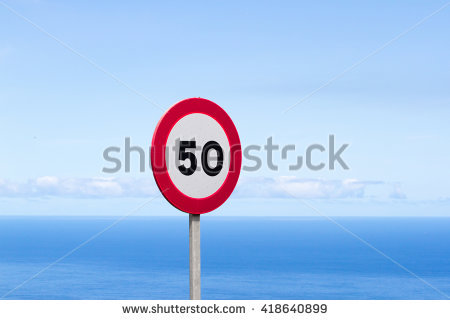Speed_limit_50km: (152, 97, 245, 216)
